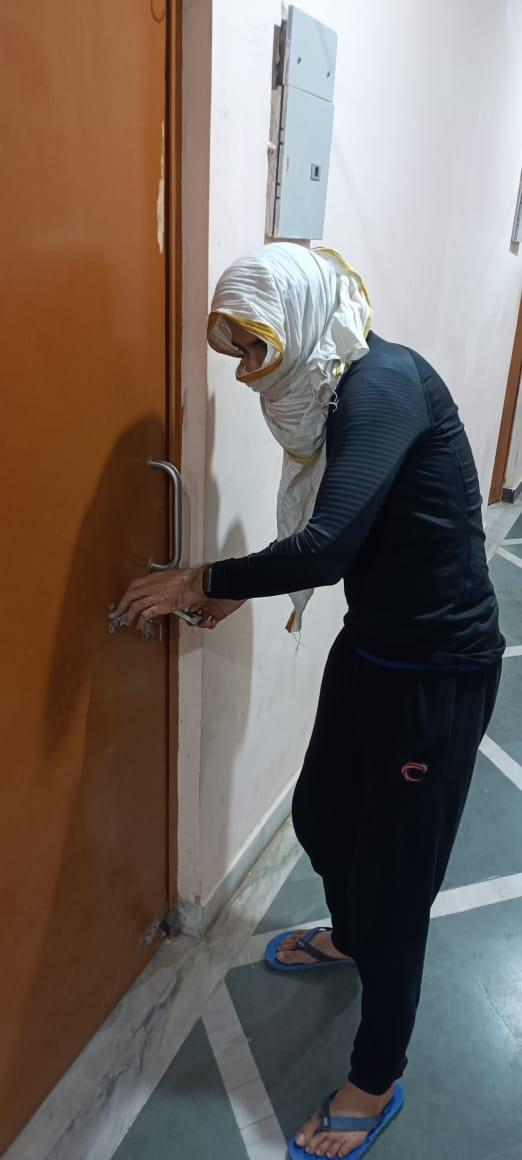suspicion: (80, 233, 522, 1160), (170, 197, 517, 1160)
